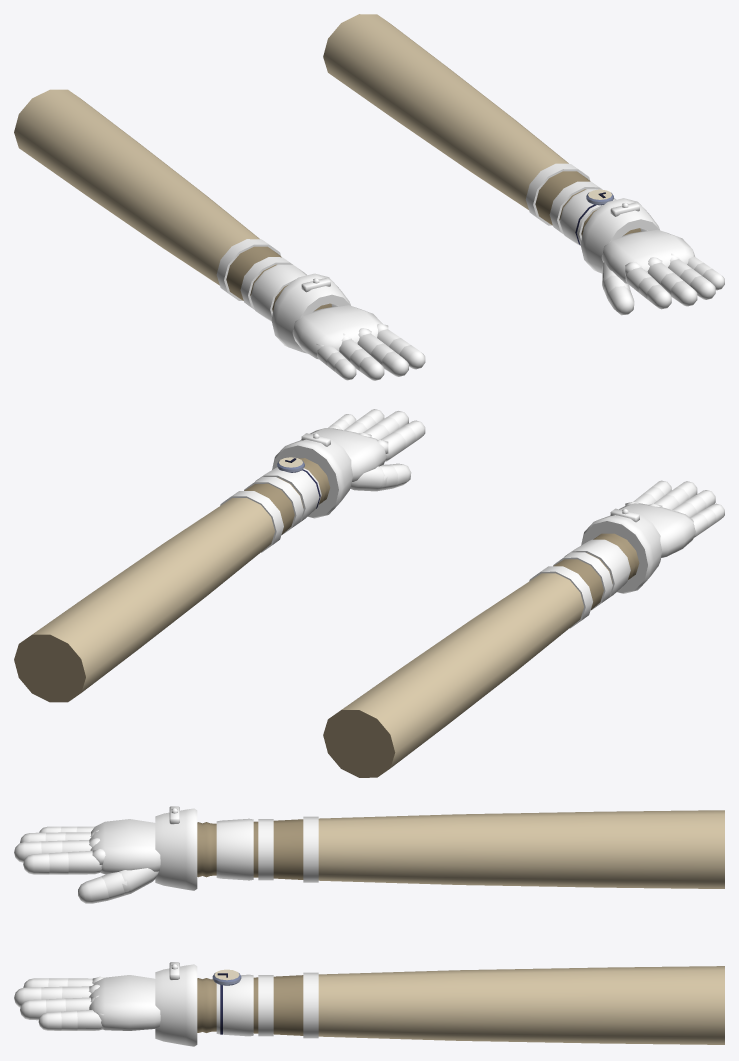
Rendered from Rookie_FPArms.fbx.
The picture shows the model from 3 angles, top to bottom: view 1: azimuth 30°, elevation 25°; view 2: azimuth 150°, elevation 25°; view 3: azimuth 270°, elevation 25°; orthographic projection. The views are drawn at different scales.
Visible parts, largest first — view 1: Rookie_FP_Right_Sleeve, Rookie_FP_Left_Sleeve, Rookie_FP_Right_Palm, Rookie_FP_Left_Palm, Rookie_FP_Right_CuffLeather, Rookie_FP_Left_CuffLeather, Rookie_FP_Left_Stripes, Rookie_FP_Right_Stripes, Rookie_FP_Right_Block, Rookie_FP_Left_Block, Rookie_FP_Left_Thumb3; view 2: Rookie_FP_Right_Sleeve, Rookie_FP_Left_Sleeve, Rookie_FP_Right_CuffLeather, Rookie_FP_Left_CuffLeather, Rookie_FP_Right_Palm, Rookie_FP_Left_Palm, Rookie_FP_Right_Stripes, Rookie_FP_Left_Stripes, Rookie_FP_Right_Block, Rookie_FP_Left_Block, Rookie_FP_Left_Thumb1; view 3: Rookie_FP_Right_Sleeve, Rookie_FP_Left_Sleeve, Rookie_FP_Left_Palm, Rookie_FP_Left_CuffLeather, Rookie_FP_Right_CuffLeather, Rookie_FP_Right_Palm, Rookie_FP_Right_Block, Rookie_FP_Left_Stripes, Rookie_FP_Right_Stripes, Rookie_FP_Left_Block, Rookie_FP_Right_Index1, Rookie_FP_Right_Thumb1 (+9 smaller).
Part boxes in pixels (x1=…): Rookie_FP_Right_Sleeve: x1=14, y1=89, x2=331, y2=311; Rookie_FP_Left_Sleeve: x1=323, y1=14, x2=641, y2=236; Rookie_FP_Right_Palm: x1=292, y1=305, x2=388, y2=359; Rookie_FP_Left_Palm: x1=601, y1=229, x2=694, y2=283; Rookie_FP_Right_CuffLeather: x1=271, y1=273, x2=350, y2=353; Rookie_FP_Left_CuffLeather: x1=580, y1=198, x2=659, y2=273; Rookie_FP_Left_Stripes: x1=525, y1=163, x2=602, y2=233; Rookie_FP_Right_Stripes: x1=216, y1=239, x2=292, y2=309; Rookie_FP_Right_Block: x1=250, y1=264, x2=306, y2=321; Rookie_FP_Left_Block: x1=559, y1=189, x2=616, y2=245; Rookie_FP_Left_Thumb3: x1=608, y1=285, x2=634, y2=315; Rookie_FP_Right_Sleeve: x1=323, y1=533, x2=639, y2=777; Rookie_FP_Left_Sleeve: x1=14, y1=458, x2=330, y2=702; Rookie_FP_Right_CuffLeather: x1=581, y1=508, x2=662, y2=593; Rookie_FP_Left_CuffLeather: x1=272, y1=433, x2=352, y2=518; Rookie_FP_Right_Palm: x1=610, y1=501, x2=695, y2=557; Rookie_FP_Left_Palm: x1=301, y1=428, x2=388, y2=481; Rookie_FP_Right_Stripes: x1=529, y1=552, x2=612, y2=628; Rookie_FP_Left_Stripes: x1=220, y1=477, x2=303, y2=552; Rookie_FP_Right_Block: x1=564, y1=539, x2=630, y2=599; Rookie_FP_Left_Block: x1=255, y1=467, x2=321, y2=523; Rookie_FP_Left_Thumb1: x1=350, y1=466, x2=387, y2=491; Rookie_FP_Right_Sleeve: x1=197, y1=810, x2=724, y2=888; Rookie_FP_Left_Sleeve: x1=197, y1=966, x2=724, y2=1044; Rookie_FP_Left_Palm: x1=89, y1=975, x2=160, y2=1030; Rookie_FP_Left_CuffLeather: x1=155, y1=962, x2=197, y2=1046; Rookie_FP_Right_CuffLeather: x1=155, y1=806, x2=197, y2=890; Rookie_FP_Right_Palm: x1=89, y1=819, x2=160, y2=874; Rookie_FP_Right_Block: x1=216, y1=818, x2=253, y2=880; Rookie_FP_Left_Stripes: x1=258, y1=972, x2=318, y2=1038; Rookie_FP_Right_Stripes: x1=258, y1=816, x2=318, y2=882; Rookie_FP_Left_Block: x1=216, y1=974, x2=253, y2=1036; Rookie_FP_Right_Index1: x1=68, y1=850, x2=101, y2=874; Rookie_FP_Right_Thumb1: x1=119, y1=868, x2=158, y2=895.
Bounding box in the file's own units: 2.24 × 0.4248 × 3.47.
1 material, 1 textured.
